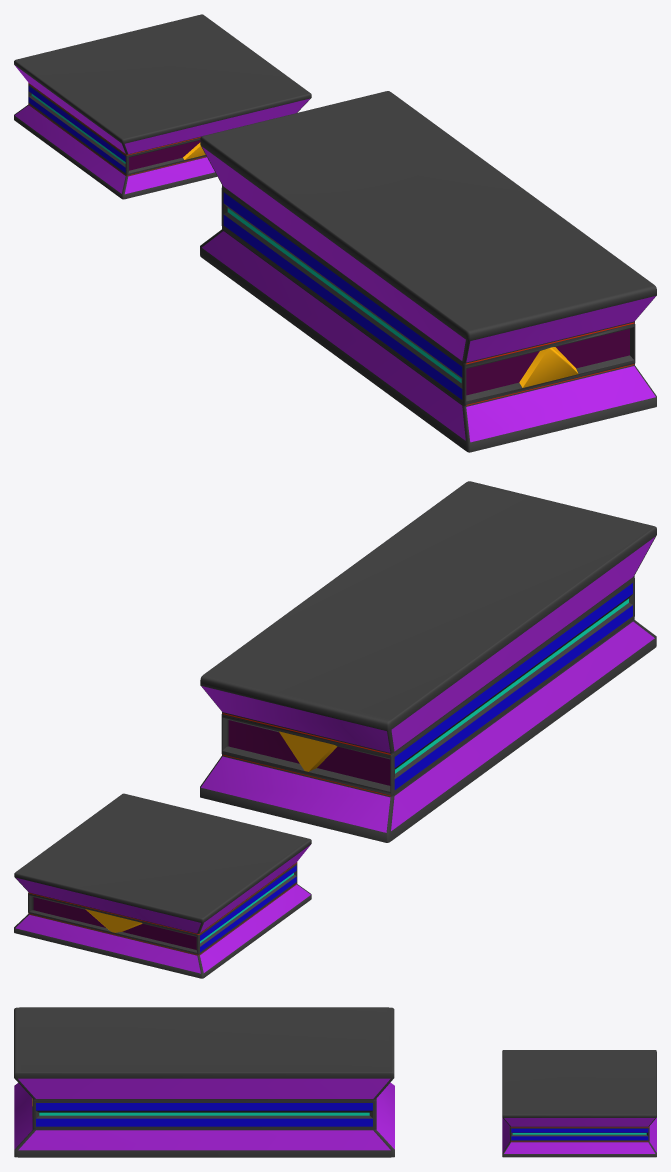
Rendered from Platform Test.FBX.
3 views of the same model, one above another, from view 1: azimuth 30°, elevation 25°; view 2: azimuth 150°, elevation 25°; view 3: azimuth 270°, elevation 25° (orthographic). The views are drawn at different scales.
Parts seen in each view (by area): view 1: Box004, Box003; view 2: Box004, Box003; view 3: Box004, Box003.
Boxes of the visible parts, x1,y1,x2,y2 form: Box004: (200,91,656,452); Box003: (14,14,311,199); Box004: (200,481,656,842); Box003: (14,793,311,978); Box004: (14,1007,394,1157); Box003: (502,1050,656,1157).
Bounding box in the file's own units: 3.32 × 2.01 × 13.81.
